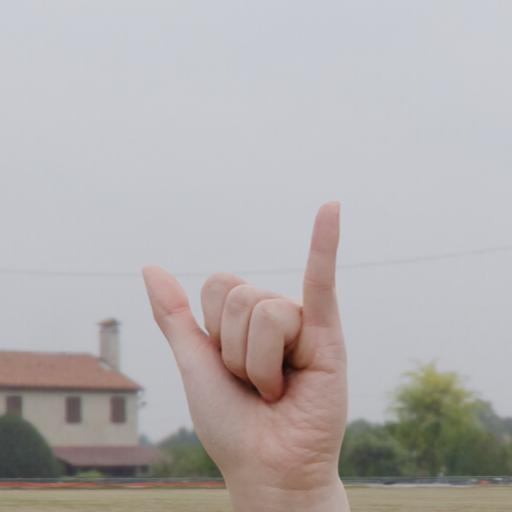Y: (129, 183, 359, 512)
